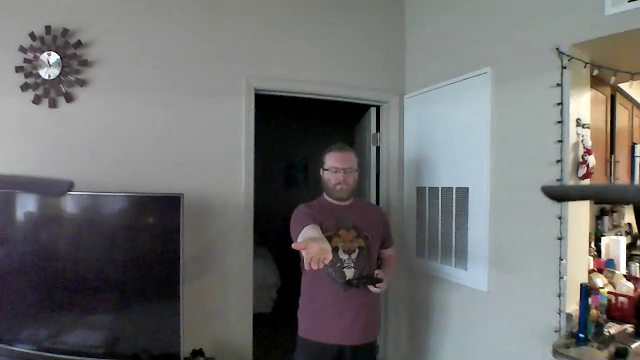land: (288, 237, 336, 272)
